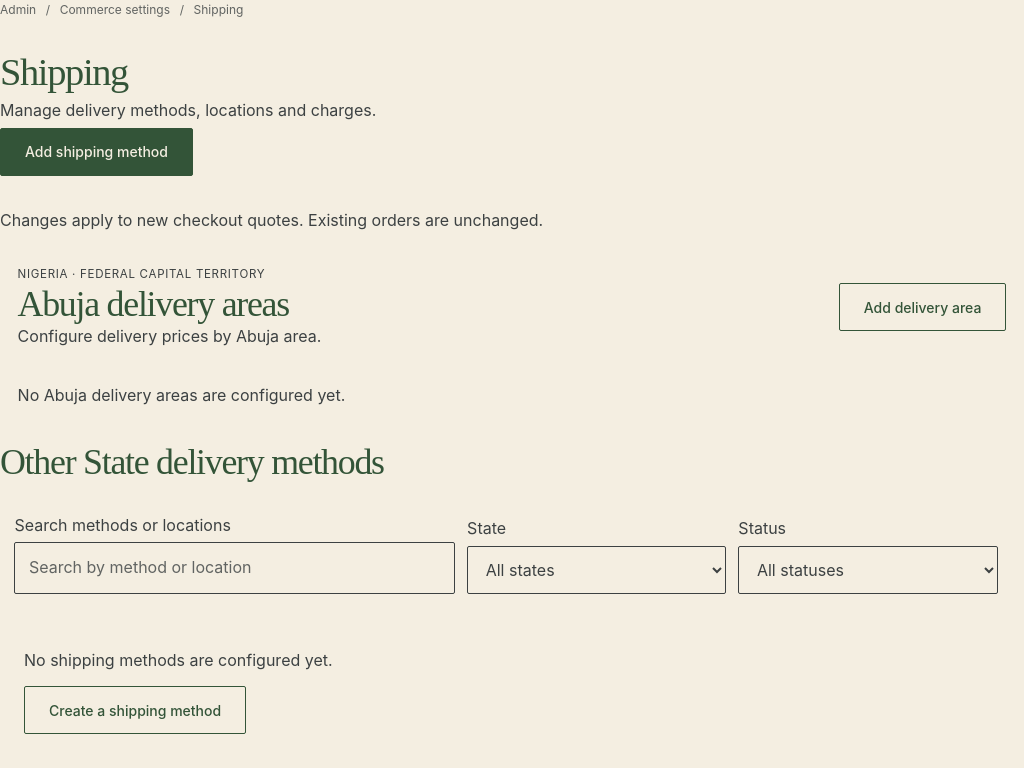
Scenario: owner commerce settings › distinguishes an empty catalogue from filtered results
Expected: the text "No shipping methods are configured yet." is shown, [24,648,333,674]
Click the button "Create a shipping method" at (135, 710), box [24,686,246,734]
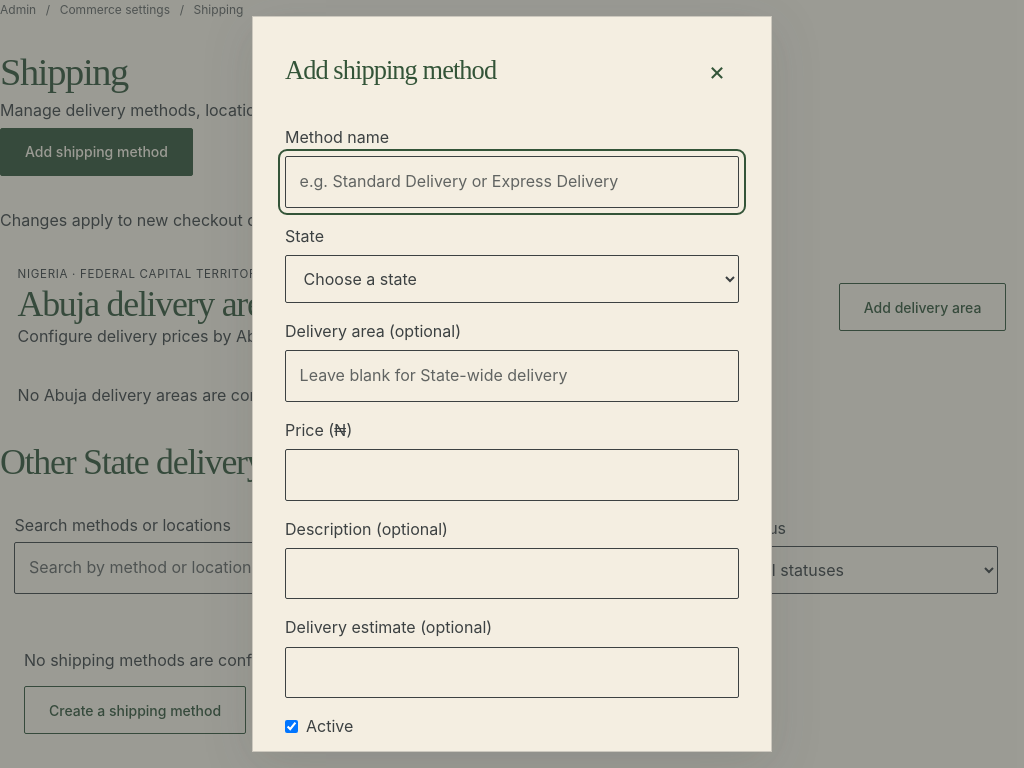
Result: the dialog "Add shipping method" is shown at [252,16,772,752]
